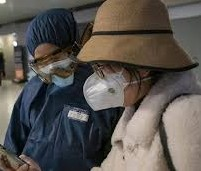with_mask: (84, 49, 152, 111), (28, 33, 78, 90)
